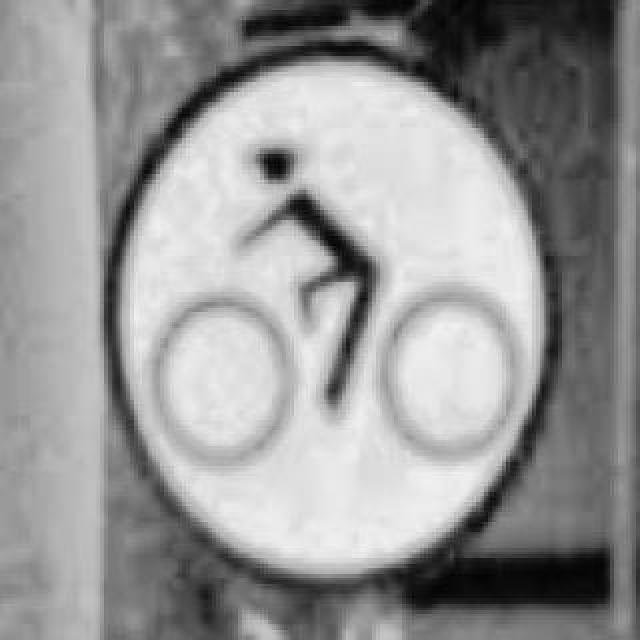bike lane: (94, 36, 554, 584)
